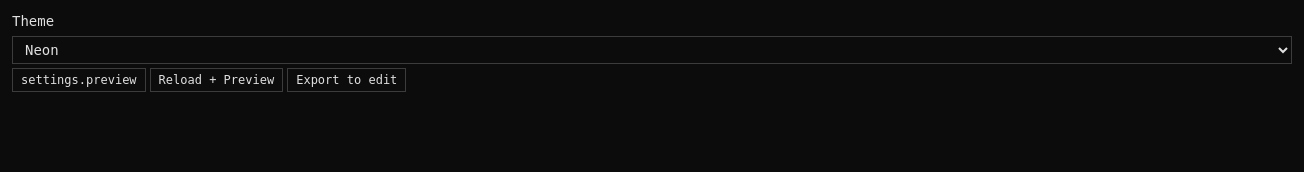
ThemeSelect (dropdown) › shows the backend error when the export fails
What coordinates should you click on to do the following:
click the button with test id "theme-export-button"
I would click on:
 (347, 80)
Its box is [287,68,406,92].
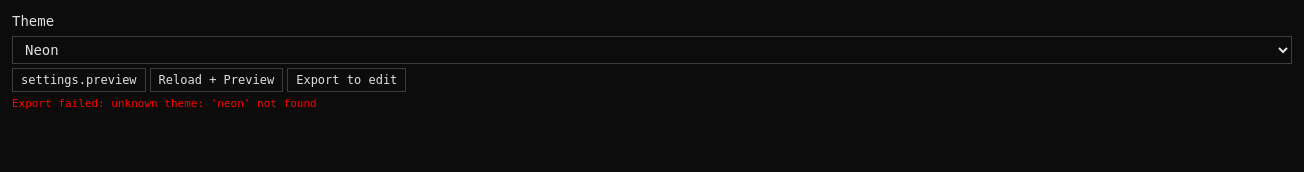
Check: the message with test id "theme-export-error" shows "unknown theme: 'neon' not found", box [111,97,317,110]
